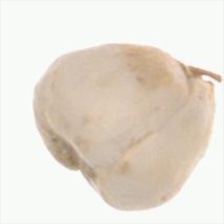L3: (169, 56, 216, 96)
L4: (33, 43, 217, 211)
